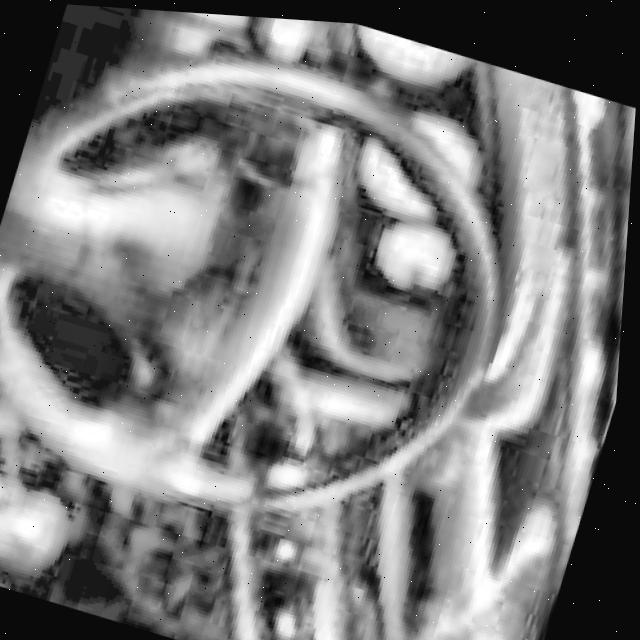glass_shatter: (0, 349, 243, 640)
